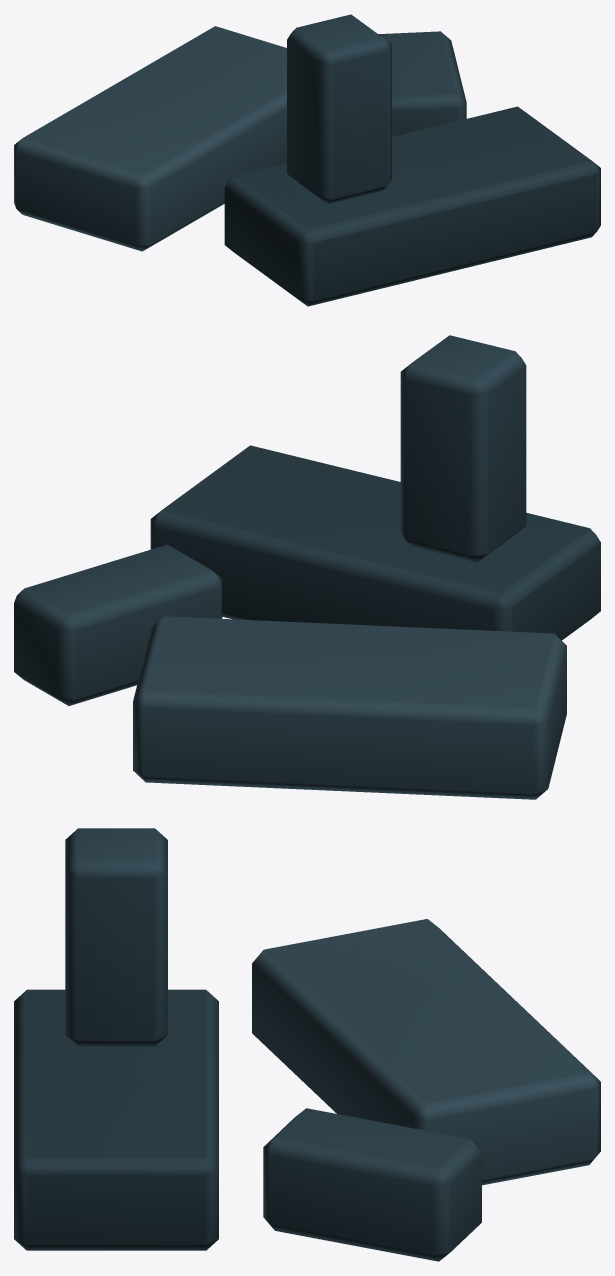
Rendered from fence_01_broken_hue_4.fbx.
The picture shows the model from 3 angles, top to bottom: view 1: azimuth 30°, elevation 25°; view 2: azimuth 150°, elevation 25°; view 3: azimuth 270°, elevation 25°; orthographic projection. The views are drawn at different scales.
Parts seen in each view (by area): view 1: fence_01_broken_hue_4; view 2: fence_01_broken_hue_4; view 3: fence_01_broken_hue_4.
Boxes of the visible parts, x1,y1,x2,y2 form: fence_01_broken_hue_4: (14, 14, 600, 306); fence_01_broken_hue_4: (14, 335, 600, 799); fence_01_broken_hue_4: (14, 828, 600, 1261).
Bounding box in the file's own units: 150 × 75 × 143.
